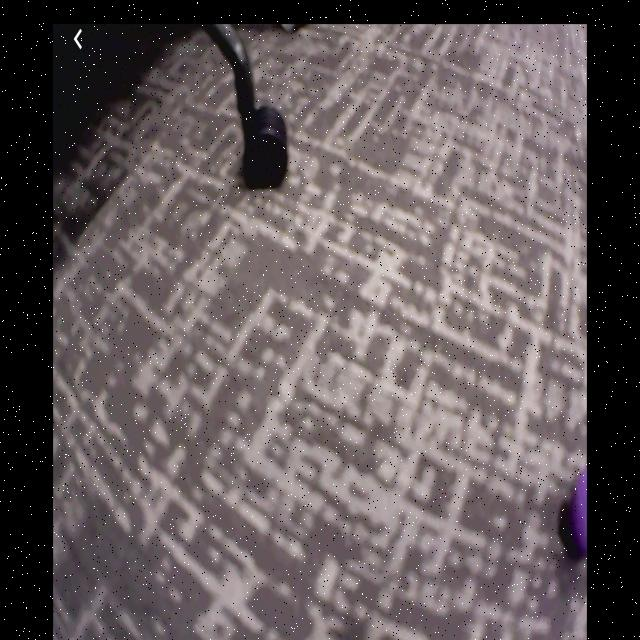ball: (558, 466, 588, 562)
